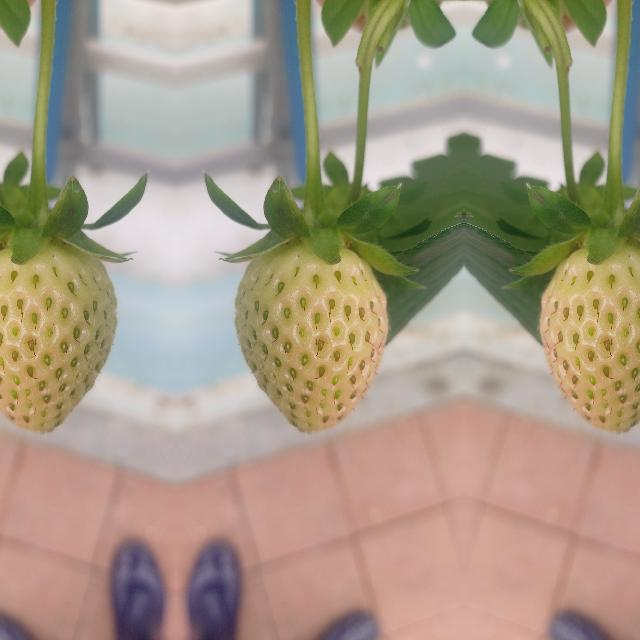Health_50: (234, 236, 386, 432), (0, 236, 116, 431), (539, 236, 640, 431)
